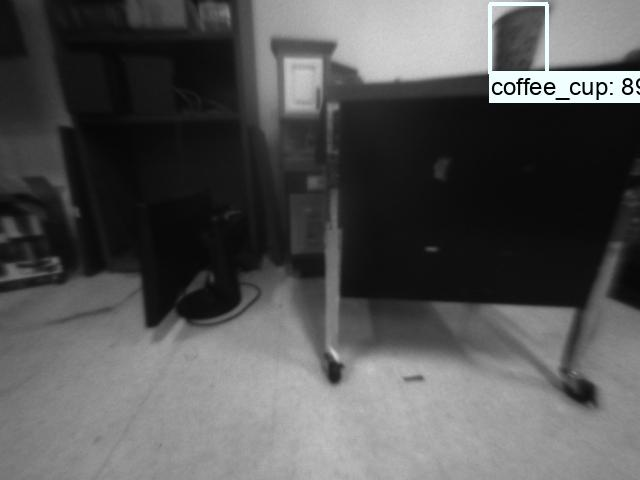coffee_cup: (491, 4, 546, 71)
